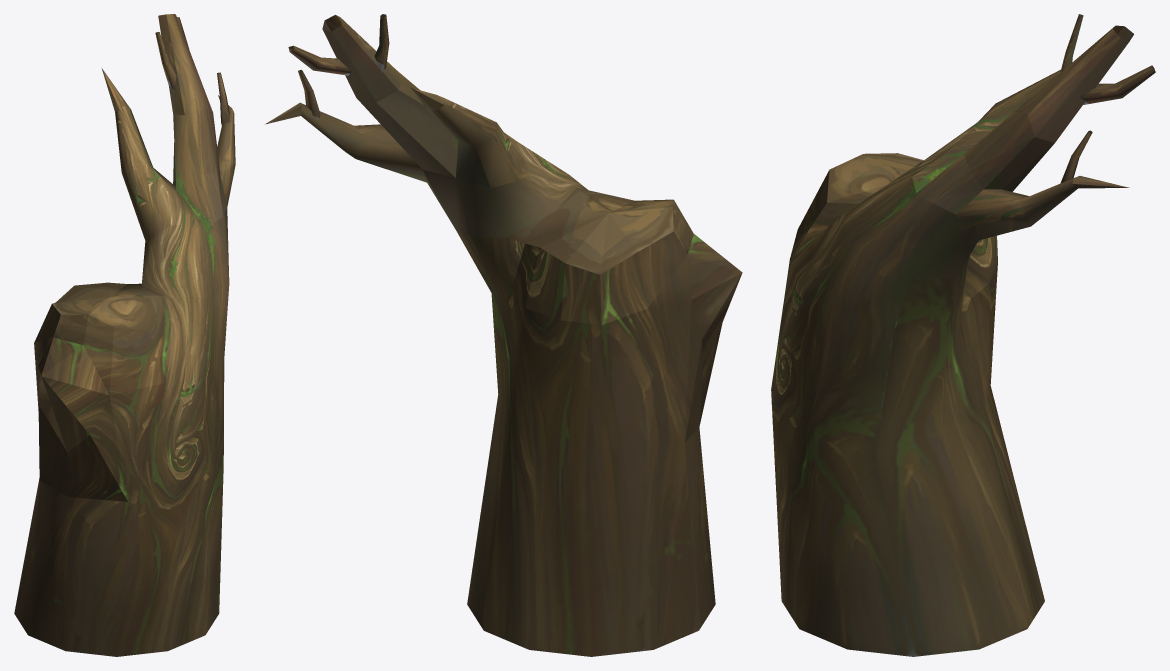
File: SMSD_5_00.fbx
The picture shows the model from 3 angles, left to right: view 1: azimuth 30°, elevation 25°; view 2: azimuth 150°, elevation 25°; view 3: azimuth 270°, elevation 25°; orthographic projection. The views are drawn at different scales.
Visible parts, largest first — view 1: SMSD_5_00; view 2: SMSD_5_00; view 3: SMSD_5_00.
Boxes of the visible parts, box(x1,y1,x2,y2) form: SMSD_5_00: box(14, 14, 235, 656); SMSD_5_00: box(265, 14, 742, 656); SMSD_5_00: box(771, 14, 1155, 656).
Bounding box in the file's own units: 2841 × 4854 × 2580.
